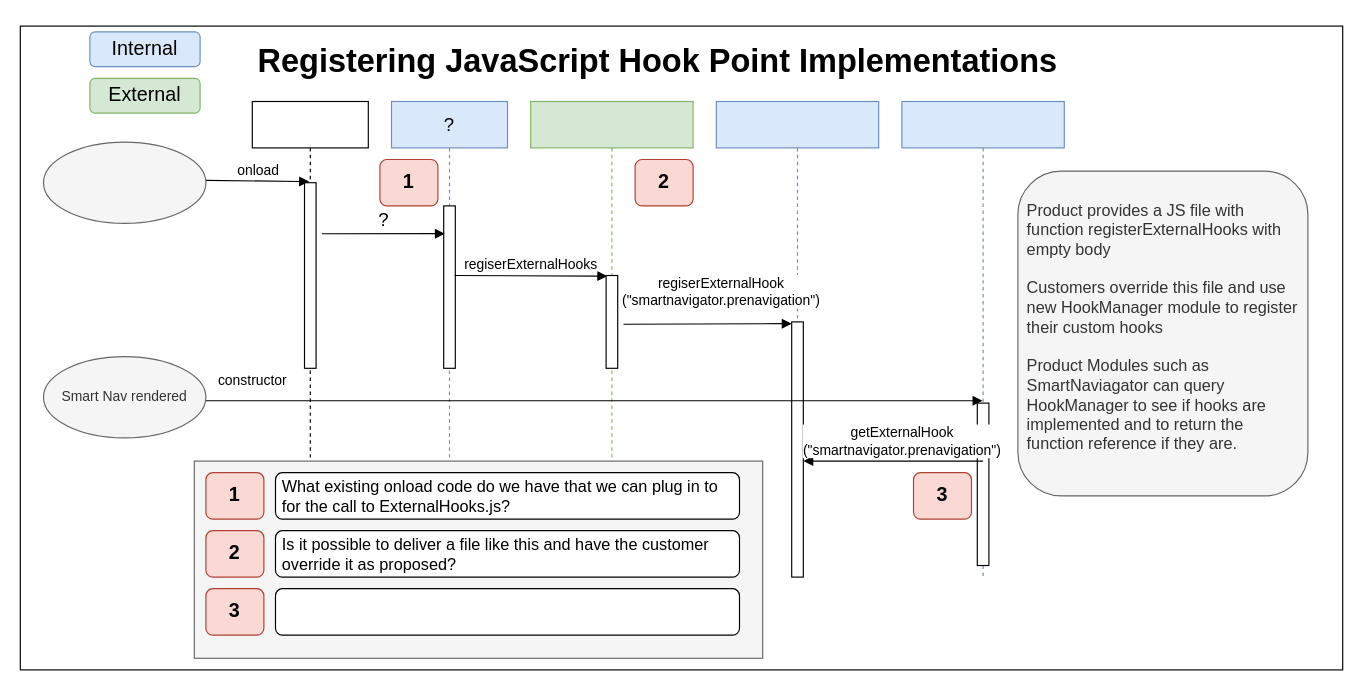
Some shapes in this 1363 by 690 pixel diagram are drawn without their labels. The shapes that lost their labels are listed below. From the top down, each one's box as (x1, y1, x2, y2) in pixels, then its label:
(42, 141, 206, 223): Open application
(251, 100, 368, 577): window
(530, 100, 693, 577): ExternalHooks.js
(715, 100, 879, 577): <<singleton>> HookManager.js
(901, 100, 1064, 577): SmartNavigator.js
(274, 588, 740, 635): Smart Navigator reads the hooks against the property it has defined
